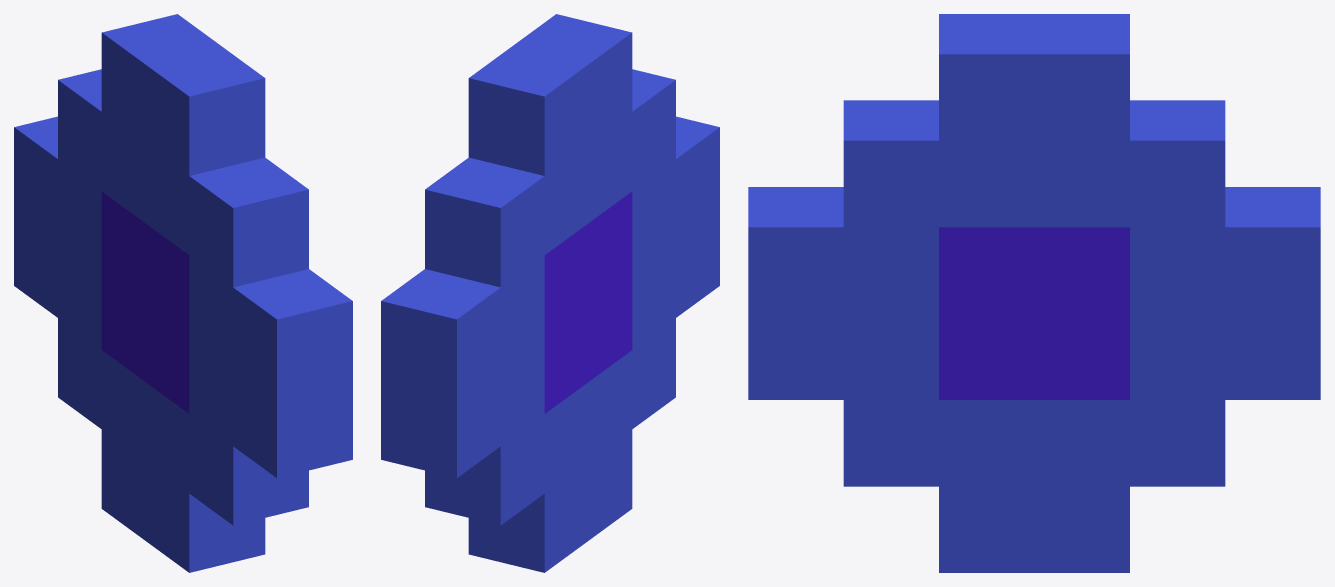
Rendered from AA_Proj_BlinkyEyeBlast.fbx.
3 views of the same model, side by side, from view 1: azimuth 30°, elevation 25°; view 2: azimuth 150°, elevation 25°; view 3: azimuth 270°, elevation 25° (orthographic). The views are drawn at different scales.
Parts seen in each view (by area): view 1: Cube.012, Cube.008, Cube.007, Cube.022, Cube.029, Cube.021, Cube.013, Cube.011, Cube.000, Cube.015, Cube.005, Cube.025 (+12 smaller); view 2: Cube.013, Cube.011, Cube.000, Cube.027, Cube.028, Cube.014, Cube.012, Cube.008, Cube.007, Cube.016, Cube.002, Cube.024 (+12 smaller); view 3: Cube.011, Cube.008, Cube.013, Cube.012, Cube.007, Cube.000, Cube.010, Cube.009, Cube.029, Cube.027, Cube.025, Cube.022 (+12 smaller).
Part boxes in pixels (x1,y1,x2,y2): Cube.012: [145, 46, 265, 175]; Cube.008: [189, 157, 308, 287]; Cube.007: [233, 269, 352, 398]; Cube.022: [233, 367, 352, 478]; Cube.029: [145, 462, 265, 572]; Cube.021: [189, 414, 308, 525]; Cube.013: [101, 14, 220, 143]; Cube.011: [58, 69, 101, 190]; Cube.000: [14, 116, 57, 238]; Cube.015: [101, 350, 145, 461]; Cube.005: [145, 224, 189, 334]; Cube.025: [101, 271, 145, 381]; Cube.013: [468, 46, 588, 175]; Cube.011: [425, 157, 544, 287]; Cube.000: [381, 269, 500, 398]; Cube.027: [381, 367, 500, 478]; Cube.028: [468, 462, 588, 572]; Cube.014: [425, 414, 544, 525]; Cube.012: [513, 14, 632, 143]; Cube.008: [632, 69, 675, 190]; Cube.007: [676, 116, 719, 238]; Cube.016: [588, 350, 632, 461]; Cube.002: [544, 224, 588, 334]; Cube.024: [588, 271, 632, 381]; Cube.011: [1130, 100, 1225, 227]; Cube.008: [843, 100, 938, 227]; Cube.013: [1034, 14, 1129, 140]; Cube.012: [939, 14, 1034, 140]; Cube.007: [748, 187, 843, 313]; Cube.000: [1225, 187, 1320, 313]; Cube.010: [1034, 140, 1129, 227]; Cube.009: [939, 140, 1034, 227]; Cube.029: [939, 486, 1034, 572]; Cube.027: [1225, 313, 1320, 399]; Cube.025: [1034, 313, 1129, 399]; Cube.022: [748, 313, 843, 399].
Bounding box in the file's own units: 200 × 1200 × 1200.
